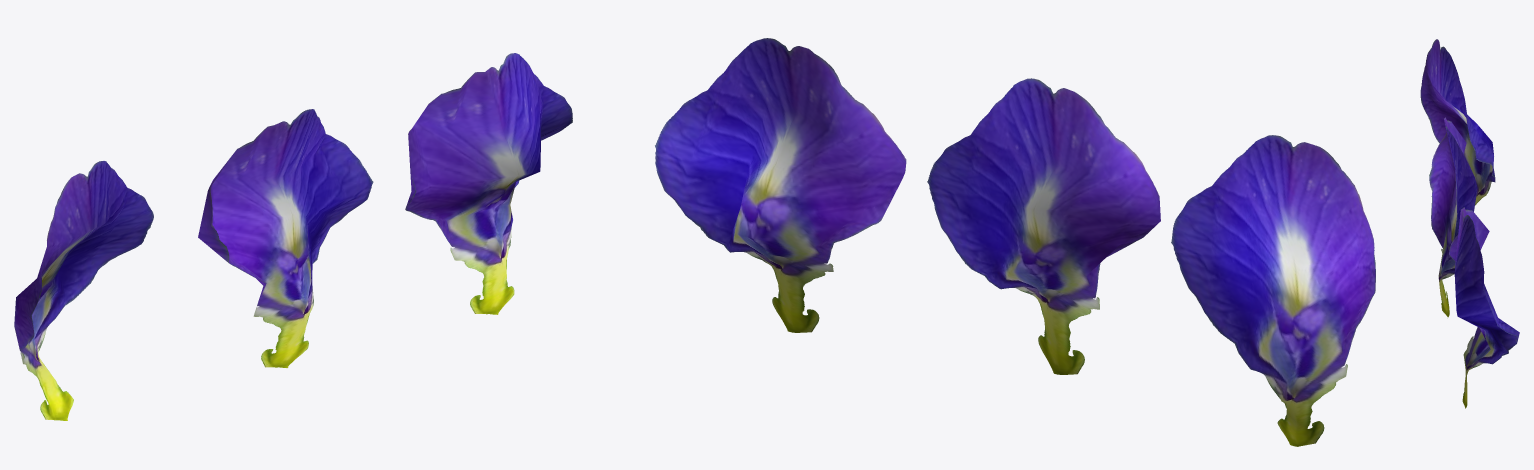
File: Bunga_Telang.fbx
The picture shows the model from 3 angles, left to right: view 1: azimuth 30°, elevation 25°; view 2: azimuth 150°, elevation 25°; view 3: azimuth 270°, elevation 25°; orthographic projection. The views are drawn at different scales.
Visible parts, largest first — view 1: bunga telang 2, bunga telang 3, bunga telang; view 2: bunga telang 3, bunga telang, bunga telang 2; view 3: bunga telang 3, bunga telang, bunga telang 2.
Boxes of the visible parts, x1,y1,x2,y2 form: bunga telang 2: (198, 109, 373, 367); bunga telang 3: (405, 53, 572, 314); bunga telang: (14, 161, 153, 420); bunga telang 3: (655, 38, 906, 332); bunga telang: (1171, 135, 1375, 446); bunga telang 2: (927, 78, 1160, 374); bunga telang 3: (1449, 207, 1519, 408); bunga telang: (1420, 39, 1495, 205); bunga telang 2: (1429, 117, 1477, 317).
Size of the model in its own units: 745 by 328 by 148.
